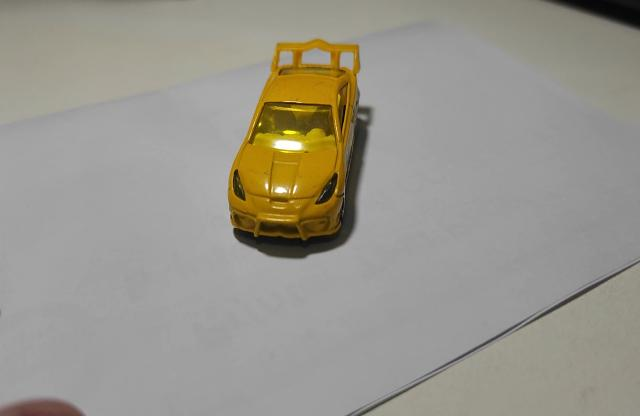07_RHLTURBO: (226, 39, 361, 242)
